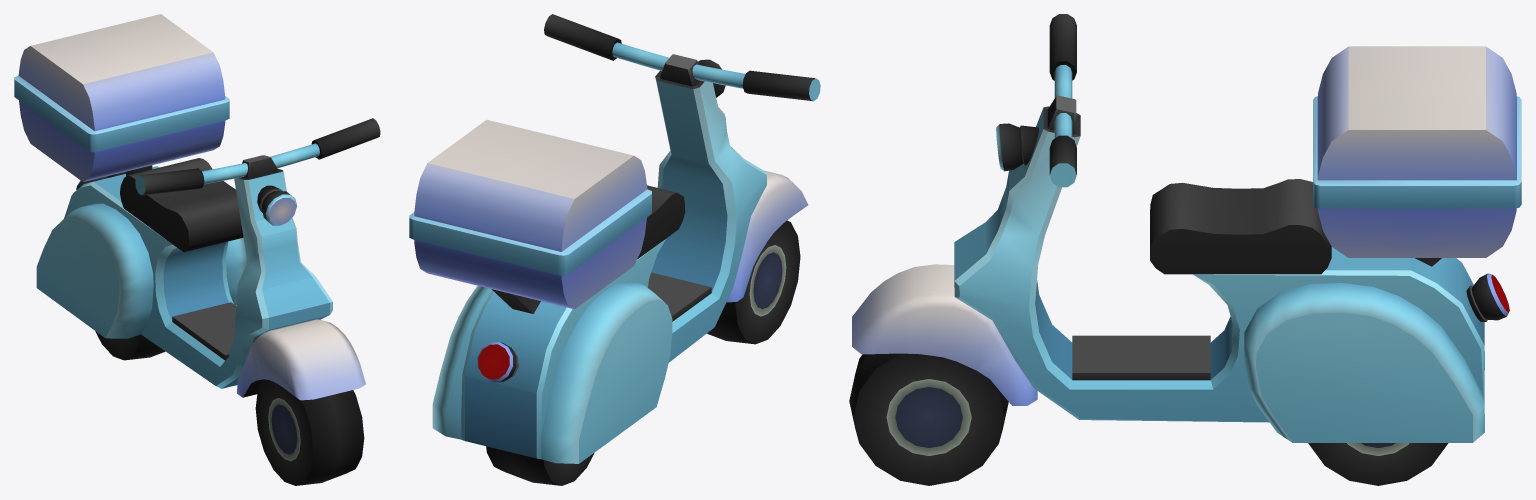
File: Scooter_03.fbx
3 renders of one model, left to right at view 1: azimuth 30°, elevation 25°; view 2: azimuth 150°, elevation 25°; view 3: azimuth 270°, elevation 25°, orthographic. The views are drawn at different scales.
Visible parts, largest first — view 1: Scooter_03; view 2: Scooter_03; view 3: Scooter_03.
Boxes of the visible parts, <box> form: Scooter_03: <box>14,14,380,485</box>; Scooter_03: <box>409,14,820,485</box>; Scooter_03: <box>849,14,1521,485</box>.
Bounding box in the file's own units: 106 × 126 × 199.
Materials: 3 (3 with a texture image).
